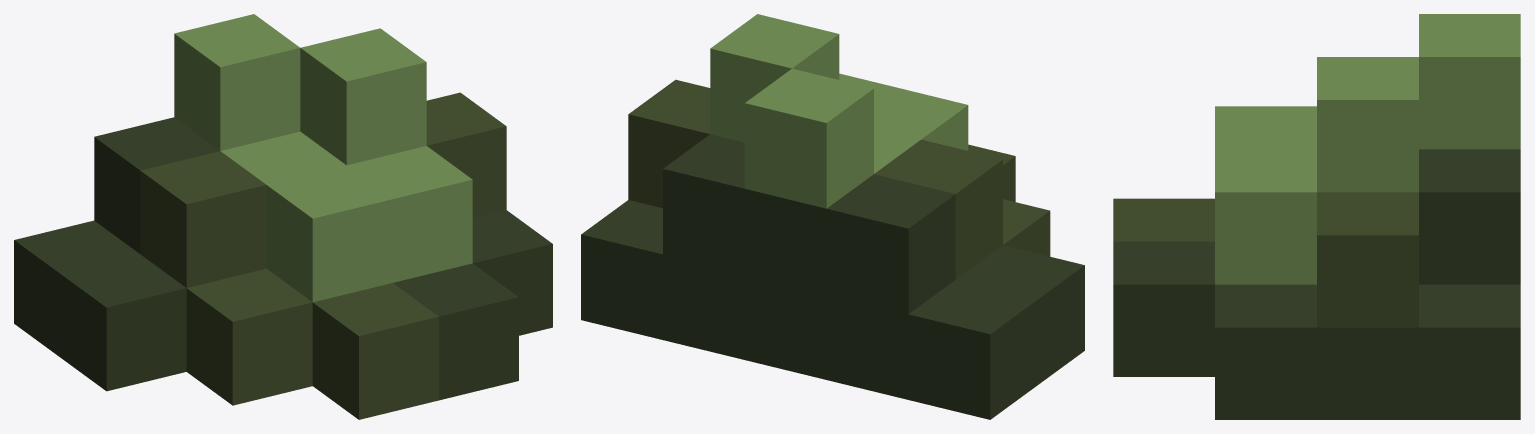
3 renders of one model, left to right at view 1: azimuth 30°, elevation 25°; view 2: azimuth 150°, elevation 25°; view 3: azimuth 270°, elevation 25°, orthographic. The views are drawn at different scales.
Parts seen in each view (by area): view 1: moss_rock_shelf; view 2: moss_rock_shelf; view 3: moss_rock_shelf.
Boxes of the visible parts, x1,y1,x2,y2 form: moss_rock_shelf: [14, 14, 552, 419]; moss_rock_shelf: [581, 14, 1084, 419]; moss_rock_shelf: [1113, 14, 1520, 419].
Bounding box in the file's own units: 0.5 × 0.3 × 0.4.
1 material, 1 textured.
